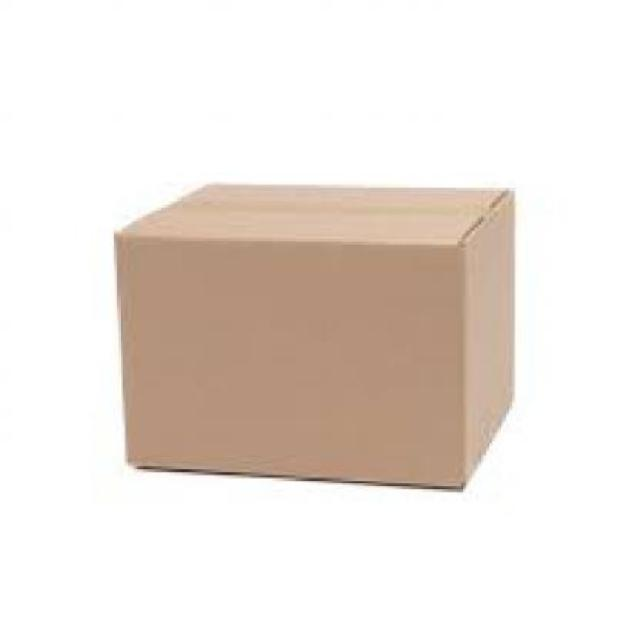cardboxes: (109, 178, 528, 492)
